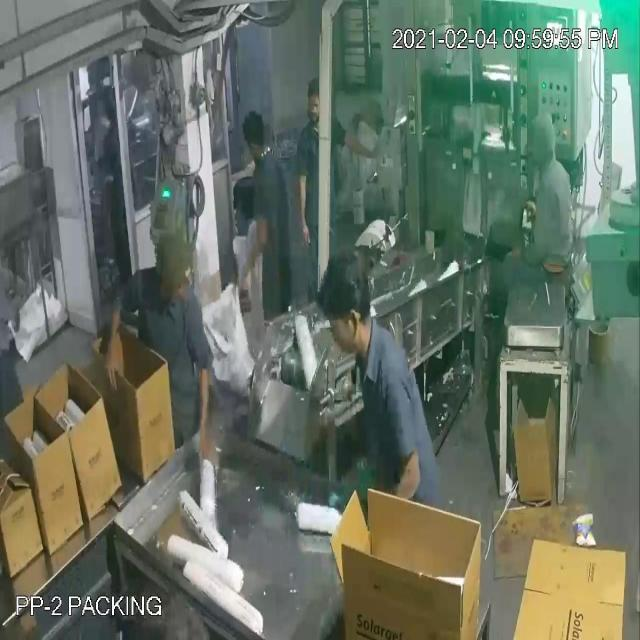No_Gloves: (17, 62, 362, 414)
